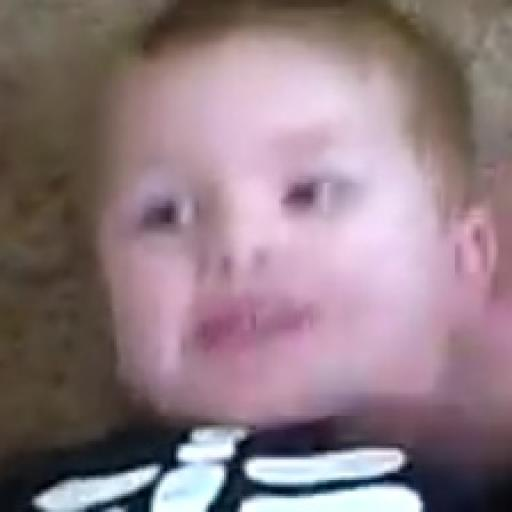Autism: (70, 23, 473, 431)
